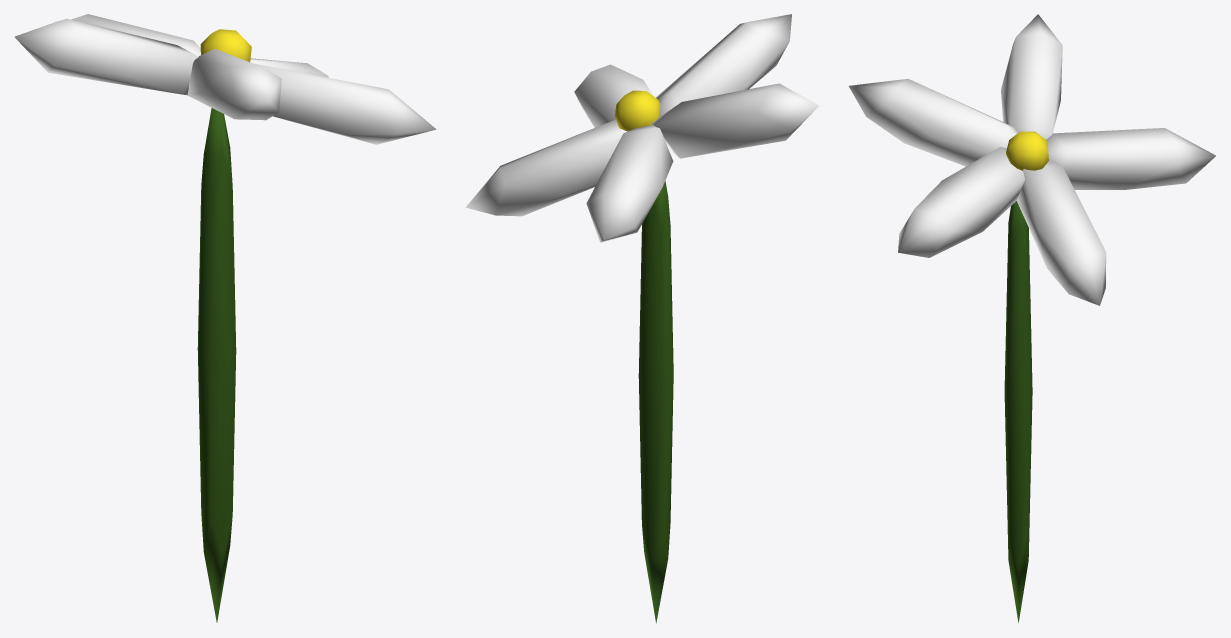
The model's file is cicek.fbx.
The picture shows the model from 3 angles, left to right: view 1: azimuth 30°, elevation 25°; view 2: azimuth 150°, elevation 25°; view 3: azimuth 270°, elevation 25°; orthographic projection. The views are drawn at different scales.
Parts seen in each view (by area): view 1: Cube.023, Cube.020, Cube.019; view 2: Cube.023, Cube.020, Cube.019; view 3: Cube.023, Cube.020, Cube.019.
Boxes of the visible parts, x1,y1,x2,y2 form: Cube.023: (14,14,436,144); Cube.020: (197,108,236,622); Cube.019: (200,29,251,62); Cube.023: (465,14,819,242); Cube.020: (638,181,673,623); Cube.019: (614,90,660,131); Cube.023: (848,14,1215,305); Cube.020: (1004,201,1032,622); Cube.019: (1006,131,1048,170).
Size of the model in its own units: 146 by 248 by 155.
Materials: 1 (1 with a texture image).
